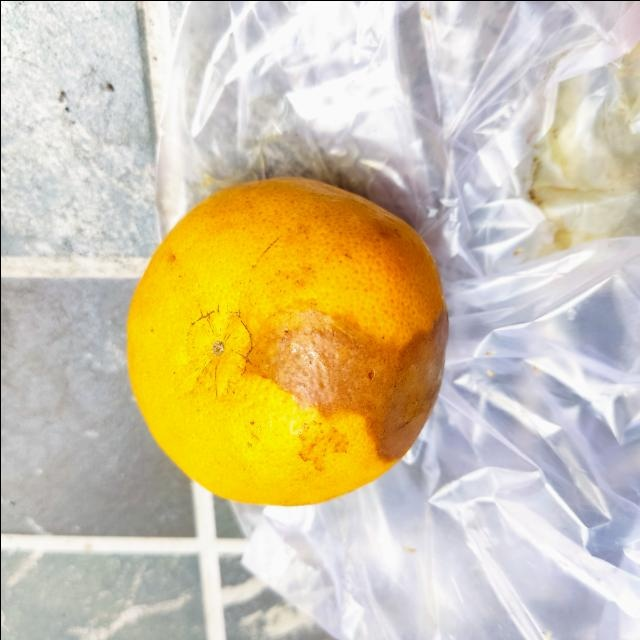agrume: (116, 170, 452, 510)
